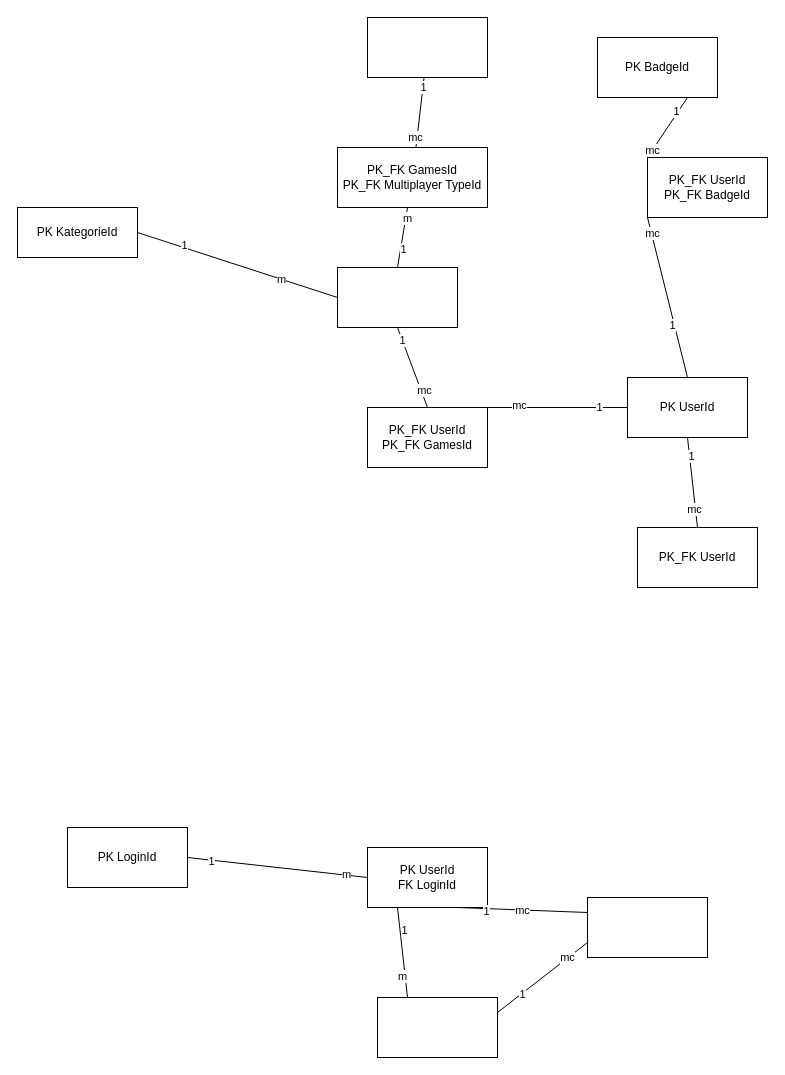
This 785x1075 diagram has some shape labels left out. The centre of each missing label's shape, as x and y in pixels:
PK DateId FK UserId FK PostId: the point at 647,927
PK GamesId FK KategorieId: the point at 397,297
PK MultiplayerTypId: the point at 427,47
PK PostId FK UserId: the point at 437,1027
